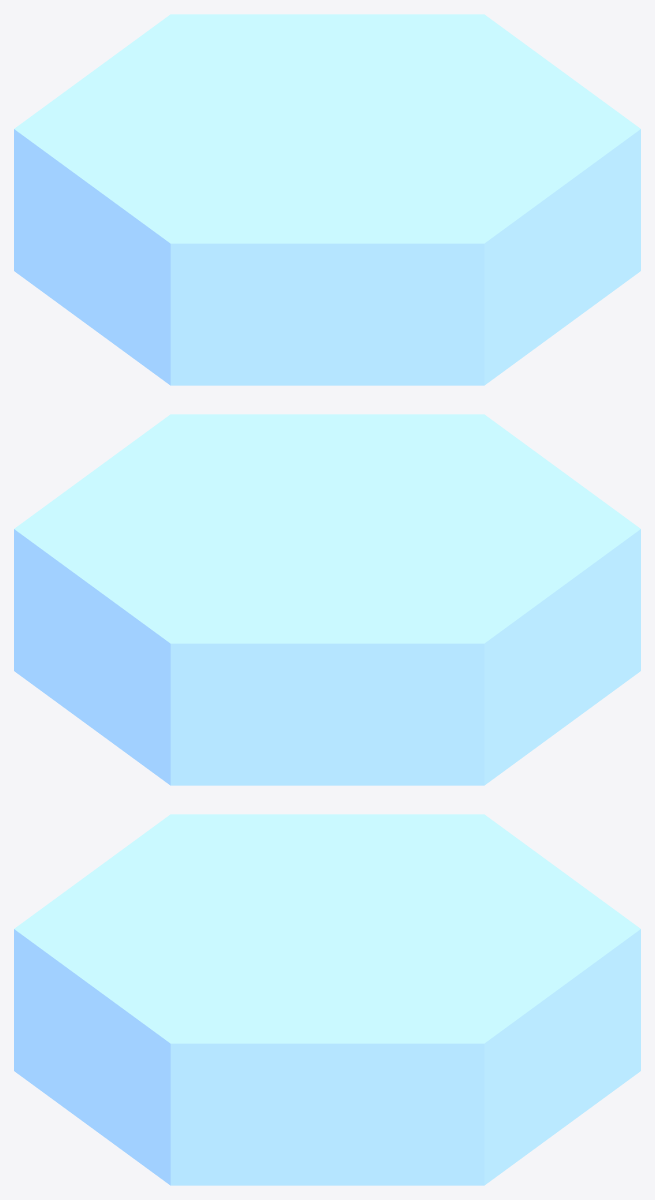
The model's file is service-hex.glb.
3 views of the same model, one above another, from view 1: azimuth 30°, elevation 25°; view 2: azimuth 150°, elevation 25°; view 3: azimuth 270°, elevation 25° (orthographic).
Visible parts, largest first — view 1: service; view 2: service; view 3: service.
Part boxes in pixels (bbox=[...]): service: bbox=[14, 14, 640, 385]; service: bbox=[14, 414, 640, 785]; service: bbox=[14, 814, 640, 1185].
Bounding box in the file's own units: 1.04 × 0.3 × 1.2.
